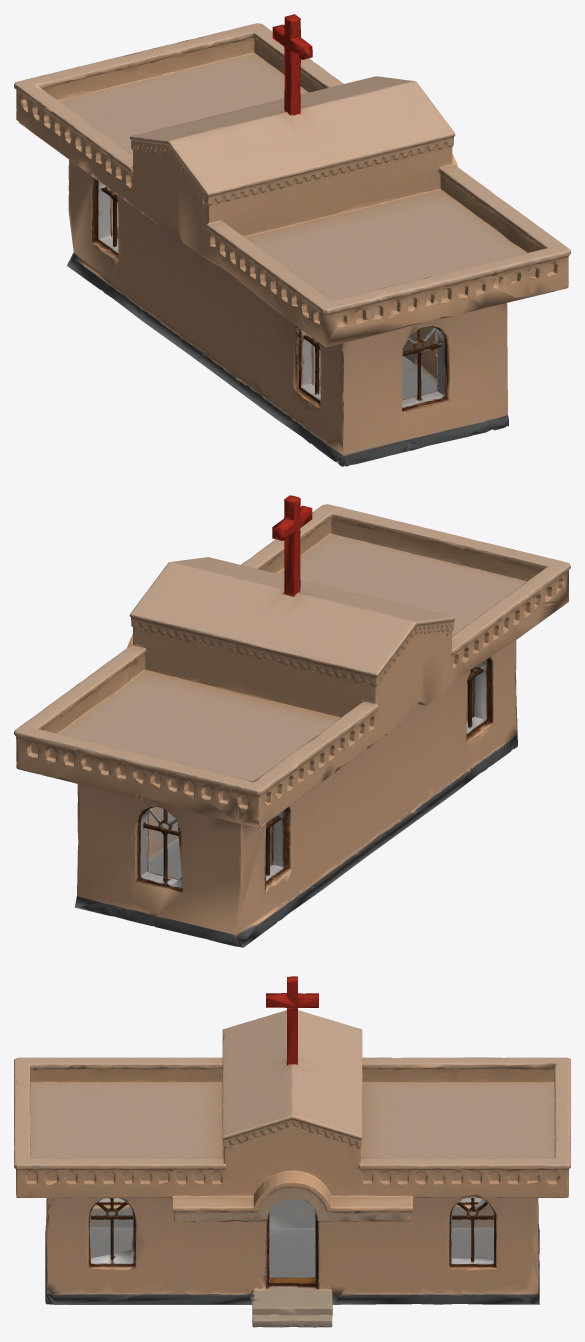
The model's file is ChapelofHope.glb.
3 renders of one model, top to bottom at view 1: azimuth 30°, elevation 25°; view 2: azimuth 150°, elevation 25°; view 3: azimuth 270°, elevation 25°, orthographic. The views are drawn at different scales.
Parts seen in each view (by area): view 1: tripo_node_987ed7c7-133a-4f86-b491-c4e4f480771d; view 2: tripo_node_987ed7c7-133a-4f86-b491-c4e4f480771d; view 3: tripo_node_987ed7c7-133a-4f86-b491-c4e4f480771d.
Boxes of the visible parts, box(x1,y1,x2,y2) form: tripo_node_987ed7c7-133a-4f86-b491-c4e4f480771d: box(14, 14, 570, 466); tripo_node_987ed7c7-133a-4f86-b491-c4e4f480771d: box(14, 495, 570, 947); tripo_node_987ed7c7-133a-4f86-b491-c4e4f480771d: box(14, 976, 570, 1327).
Size of the model in its own units: 0.4935 by 0.5669 by 0.9806.
Materials: 1 (1 with a texture image).
